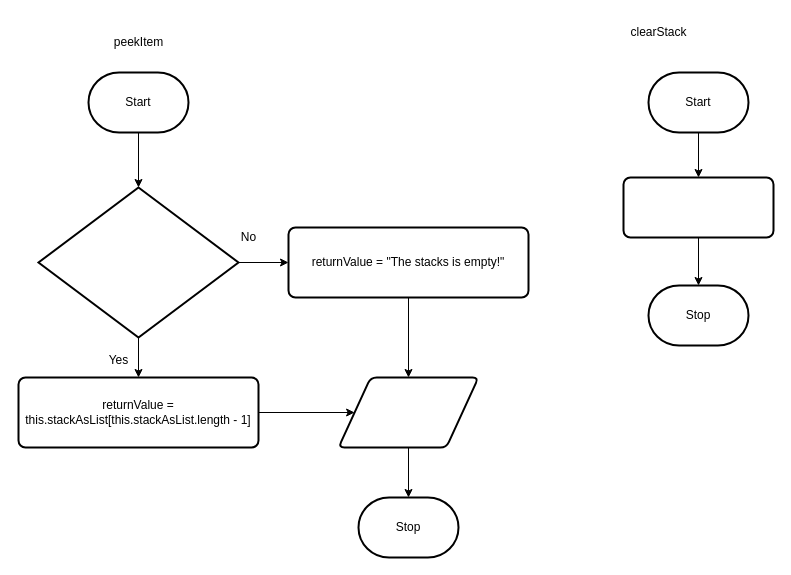
Image size: 791x575. Some labels were removed from this diagram. The shapes that lost their labels are listed below. From the top down, each one's box as (x1, y1, x2, y2) in pixels, then its label:
(622, 176, 774, 238): this.stackAsList = []
(37, 186, 239, 338): if (this.stackAsList.length > 0)
(337, 376, 479, 448): return returnValue
